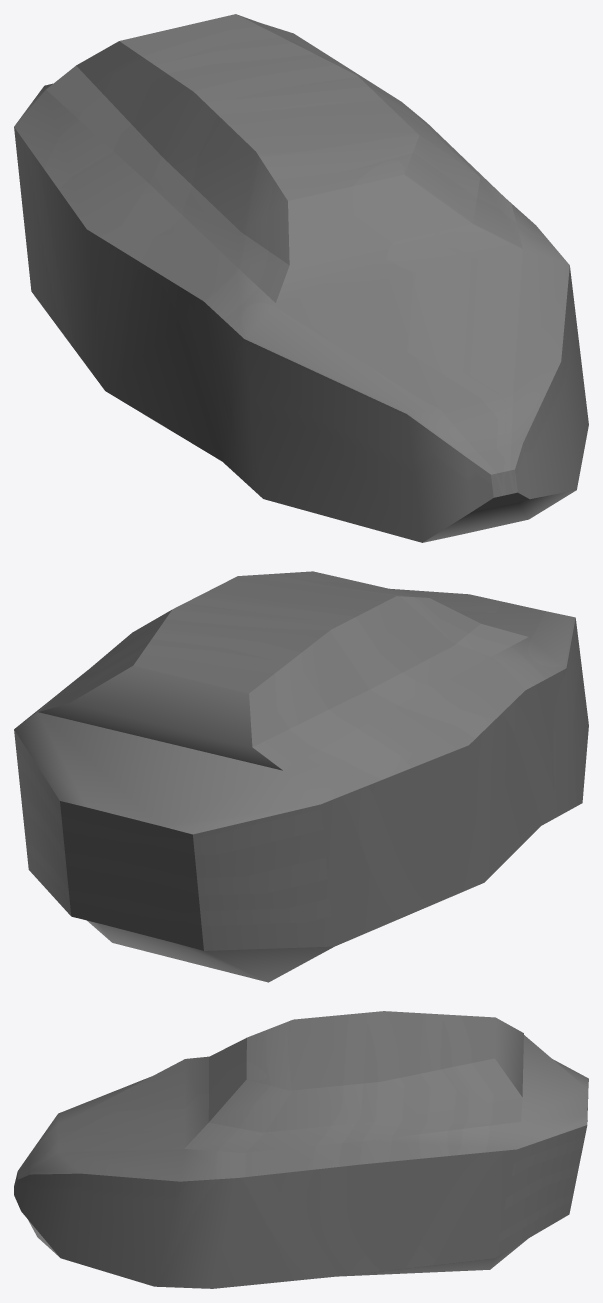
Rendered from Rock.fbx.
The picture shows the model from 3 angles, top to bottom: view 1: azimuth 30°, elevation 25°; view 2: azimuth 150°, elevation 25°; view 3: azimuth 270°, elevation 25°; orthographic projection. The views are drawn at different scales.
Visible parts, largest first — view 1: pCube1; view 2: pCube1; view 3: pCube1.
Boxes of the visible parts, x1=… form: pCube1: x1=14, y1=14, x2=588, y2=542; pCube1: x1=14, y1=571, x2=588, y2=982; pCube1: x1=14, y1=1011, x2=588, y2=1288.
Bounding box in the file's own units: 6.47 × 4.9 × 11.92.
